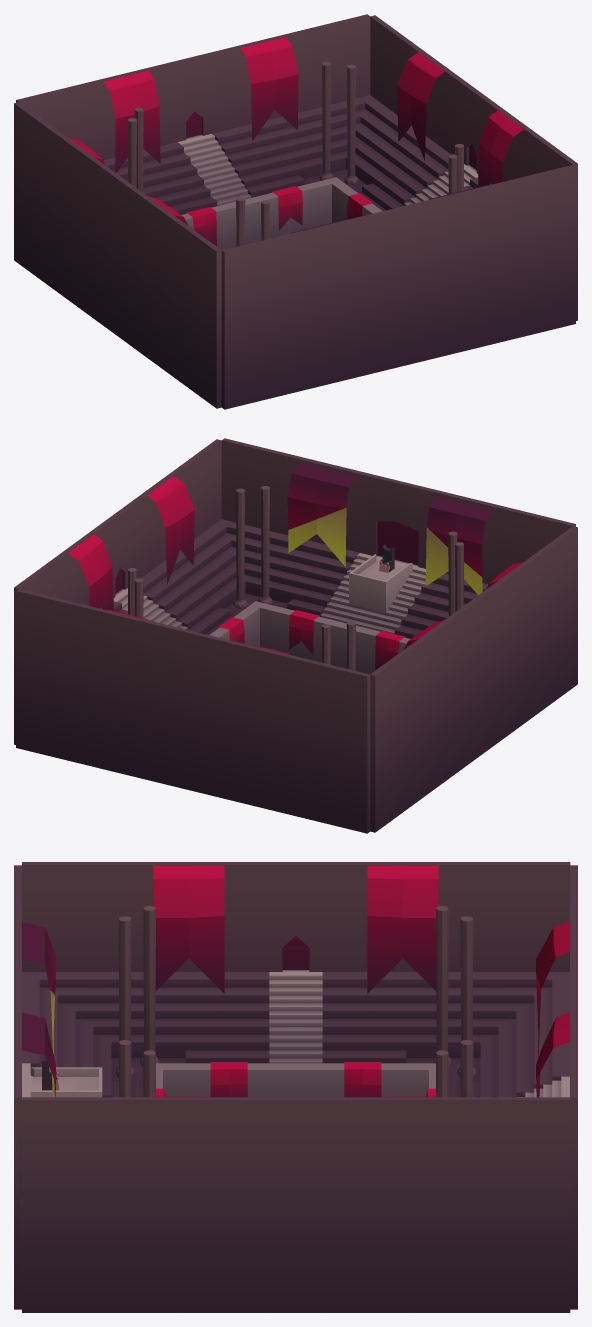
The model's file is arenaComplete.fbx.
3 views of the same model, one above another, from view 1: azimuth 30°, elevation 25°; view 2: azimuth 150°, elevation 25°; view 3: azimuth 270°, elevation 25° (orthographic). The views are drawn at different scales.
Visible parts, largest first — view 1: Cube.018, Cube.016, Cube.015, Cube.017; view 2: Cube.016, Cube.018, Cube.015, Cube.017; view 3: Cube.017, Cube.015, Cube.016, Cube.018.
Part boxes in pixels (x1,y1,x2,y2): Cube.018: (221, 154, 575, 409); Cube.016: (16, 14, 370, 250); Cube.015: (14, 102, 245, 408); Cube.017: (332, 15, 577, 320); Cube.016: (16, 578, 370, 833); Cube.018: (221, 438, 575, 674); Cube.015: (346, 526, 577, 832); Cube.017: (14, 439, 259, 744); Cube.017: (22, 1050, 570, 1312); Cube.015: (22, 862, 570, 1097); Cube.016: (426, 865, 577, 1309); Cube.018: (14, 865, 165, 1309).
Size of the model in its own units: 7200 by 3001 by 7200.
